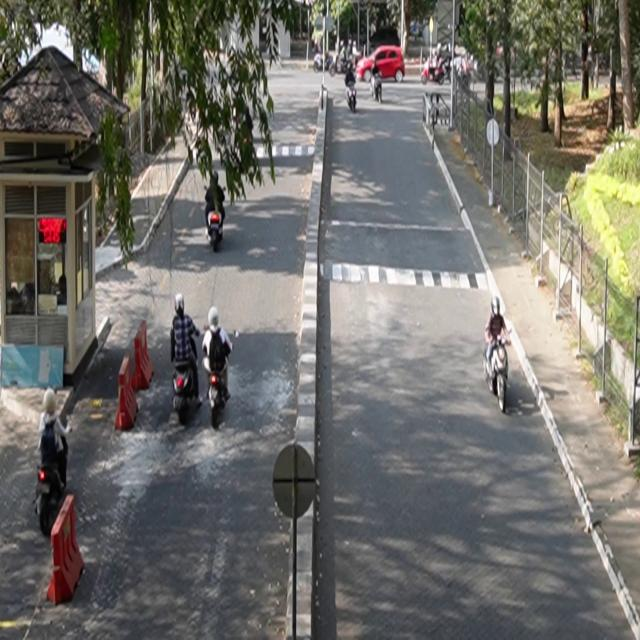car: (356, 45, 406, 84)
